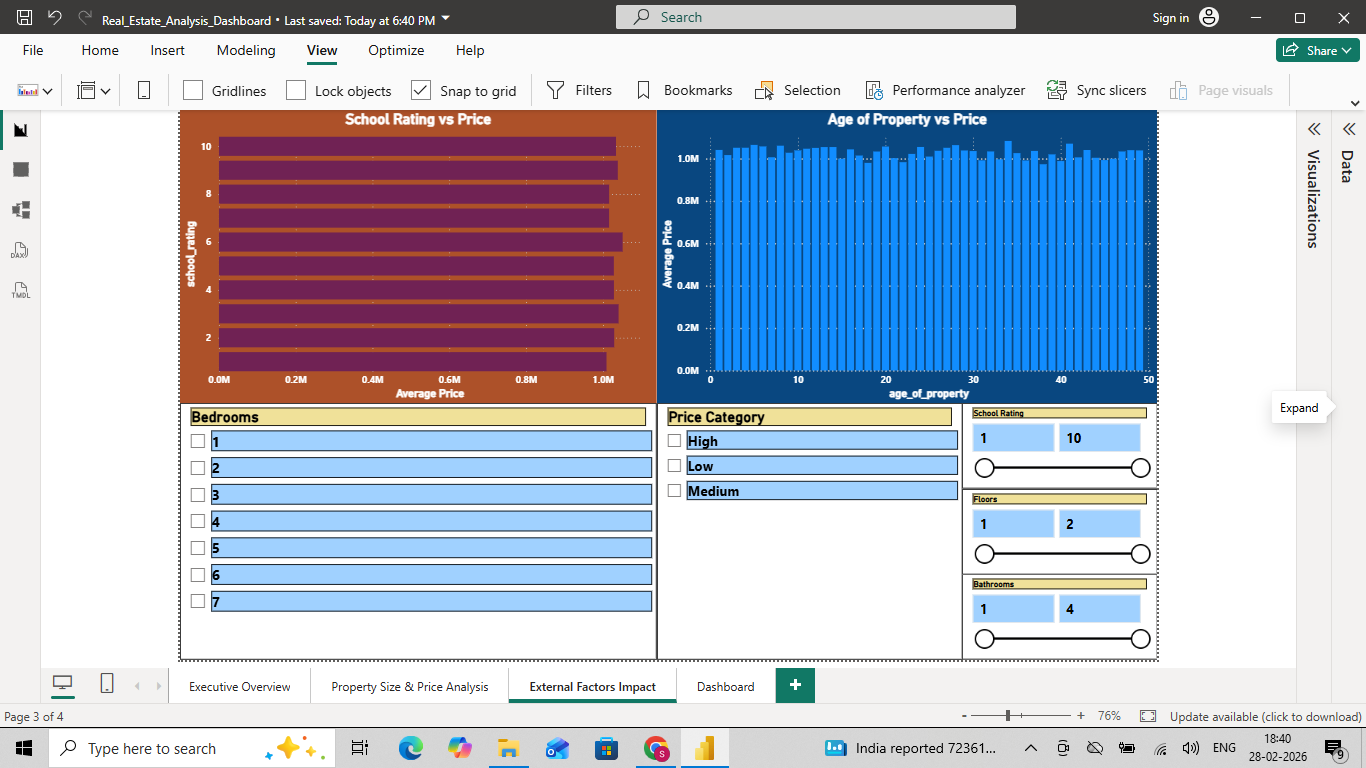

What the dashboard file says about the page in this screenshot:
{"tool":"powerbi","page":{"name":"External Factors Impact","canvas":[1280,720],"ordinal":2},"visuals":[{"type":"barChart","title":"School Rating vs Price","fields":{"Category":["RealEstate.school_rating"],"Y":["RealEstate.Average Price"]},"box":[0,0,624,384],"z":0},{"type":"columnChart","title":"Age of Property vs Price","fields":{"Category":["RealEstate.age_of_property"],"Y":["RealEstate.Average Price"]},"box":[624,0,656,384],"z":1000},{"type":"slicer","fields":{"Values":["RealEstate.bedrooms"]},"box":[0,384,272,336],"z":2000},{"type":"slicer","fields":{"Values":["RealEstate.bathrooms"]},"box":[1024,384,256,336],"z":3000},{"type":"slicer","fields":{"Values":["RealEstate.Price Category"]},"box":[272,384,272,336],"z":4000},{"type":"slicer","fields":{"Values":["RealEstate.school_rating"]},"box":[544,384,240,336],"z":5000},{"type":"slicer","fields":{"Values":["RealEstate.floors"]},"box":[784,384,240,336],"z":6000}]}

Visuals, with their boxes on the page's 1280x720 design canvas (x1, y1, x2, y2). These are canvas units, not pixel positions in the 1366x768 screenshot, which may show the page scaled, cropped or inside an application window:
"School Rating vs Price" barChart: l=0, t=0, r=624, b=384
"Age of Property vs Price" columnChart: l=624, t=0, r=1280, b=384
slicer - RealEstate.bedrooms: l=0, t=384, r=272, b=720
slicer - RealEstate.bathrooms: l=1024, t=384, r=1280, b=720
slicer - RealEstate.Price Category: l=272, t=384, r=544, b=720
slicer - RealEstate.school_rating: l=544, t=384, r=784, b=720
slicer - RealEstate.floors: l=784, t=384, r=1024, b=720
